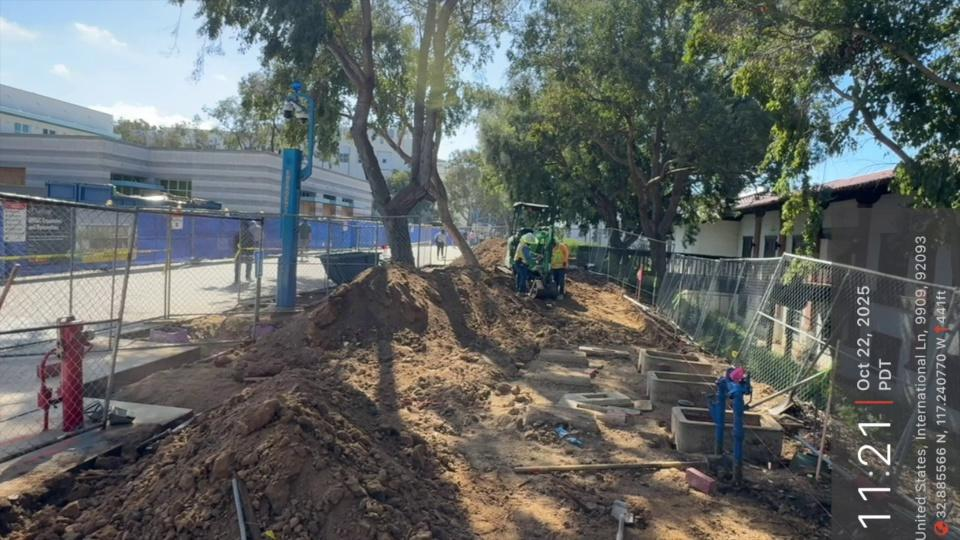Exacavator: (503, 200, 568, 300)
